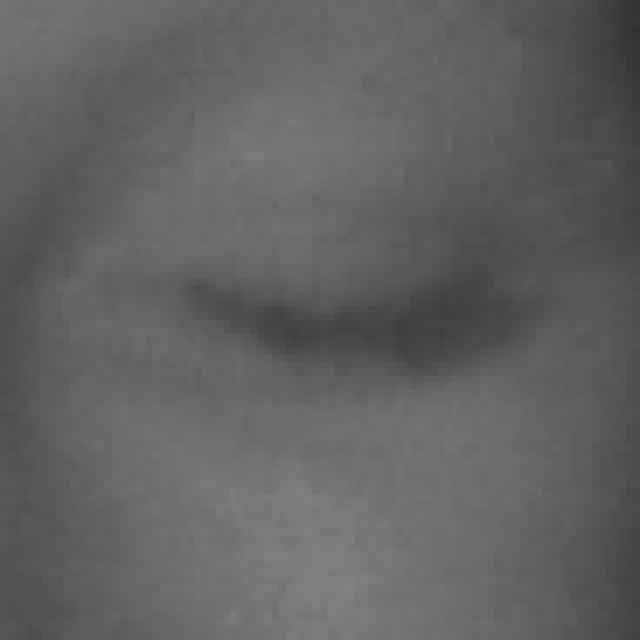Eyeclosed: (189, 140, 529, 479)
